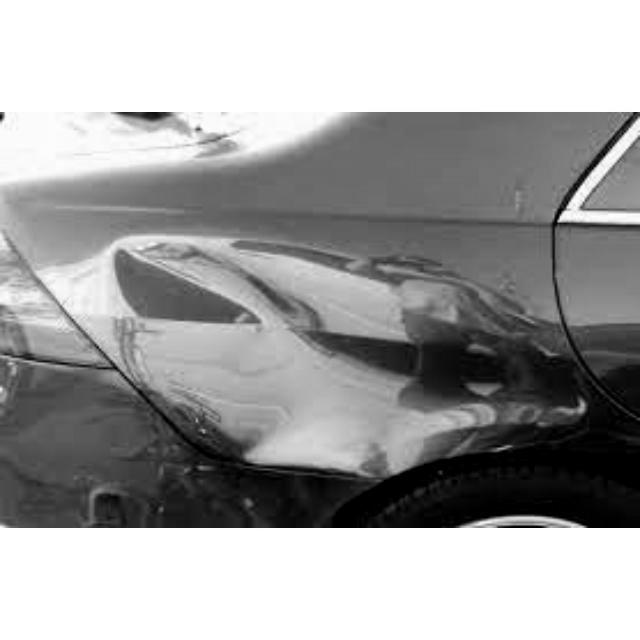quaterpanel-dent: (102, 149, 594, 521)
